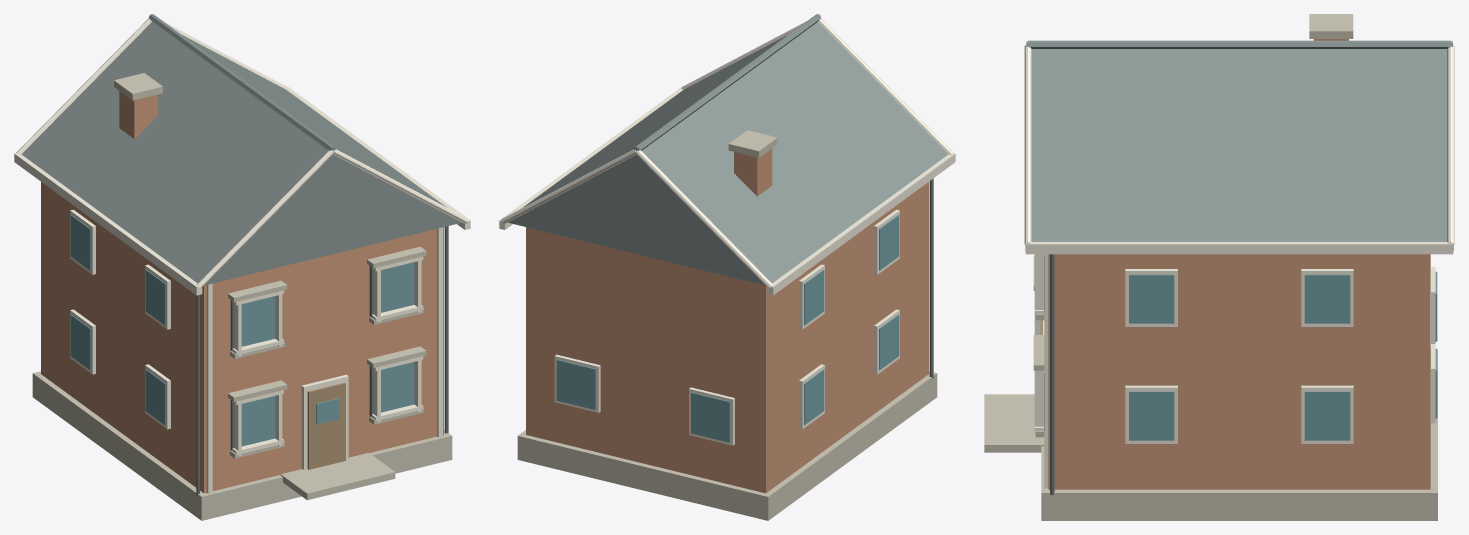
The picture shows the model from 3 angles, left to right: view 1: azimuth 30°, elevation 25°; view 2: azimuth 150°, elevation 25°; view 3: azimuth 270°, elevation 25°; orthographic projection. The views are drawn at different scales.
Size of the model in its own units: 7.76 by 9.42 by 9.84.
